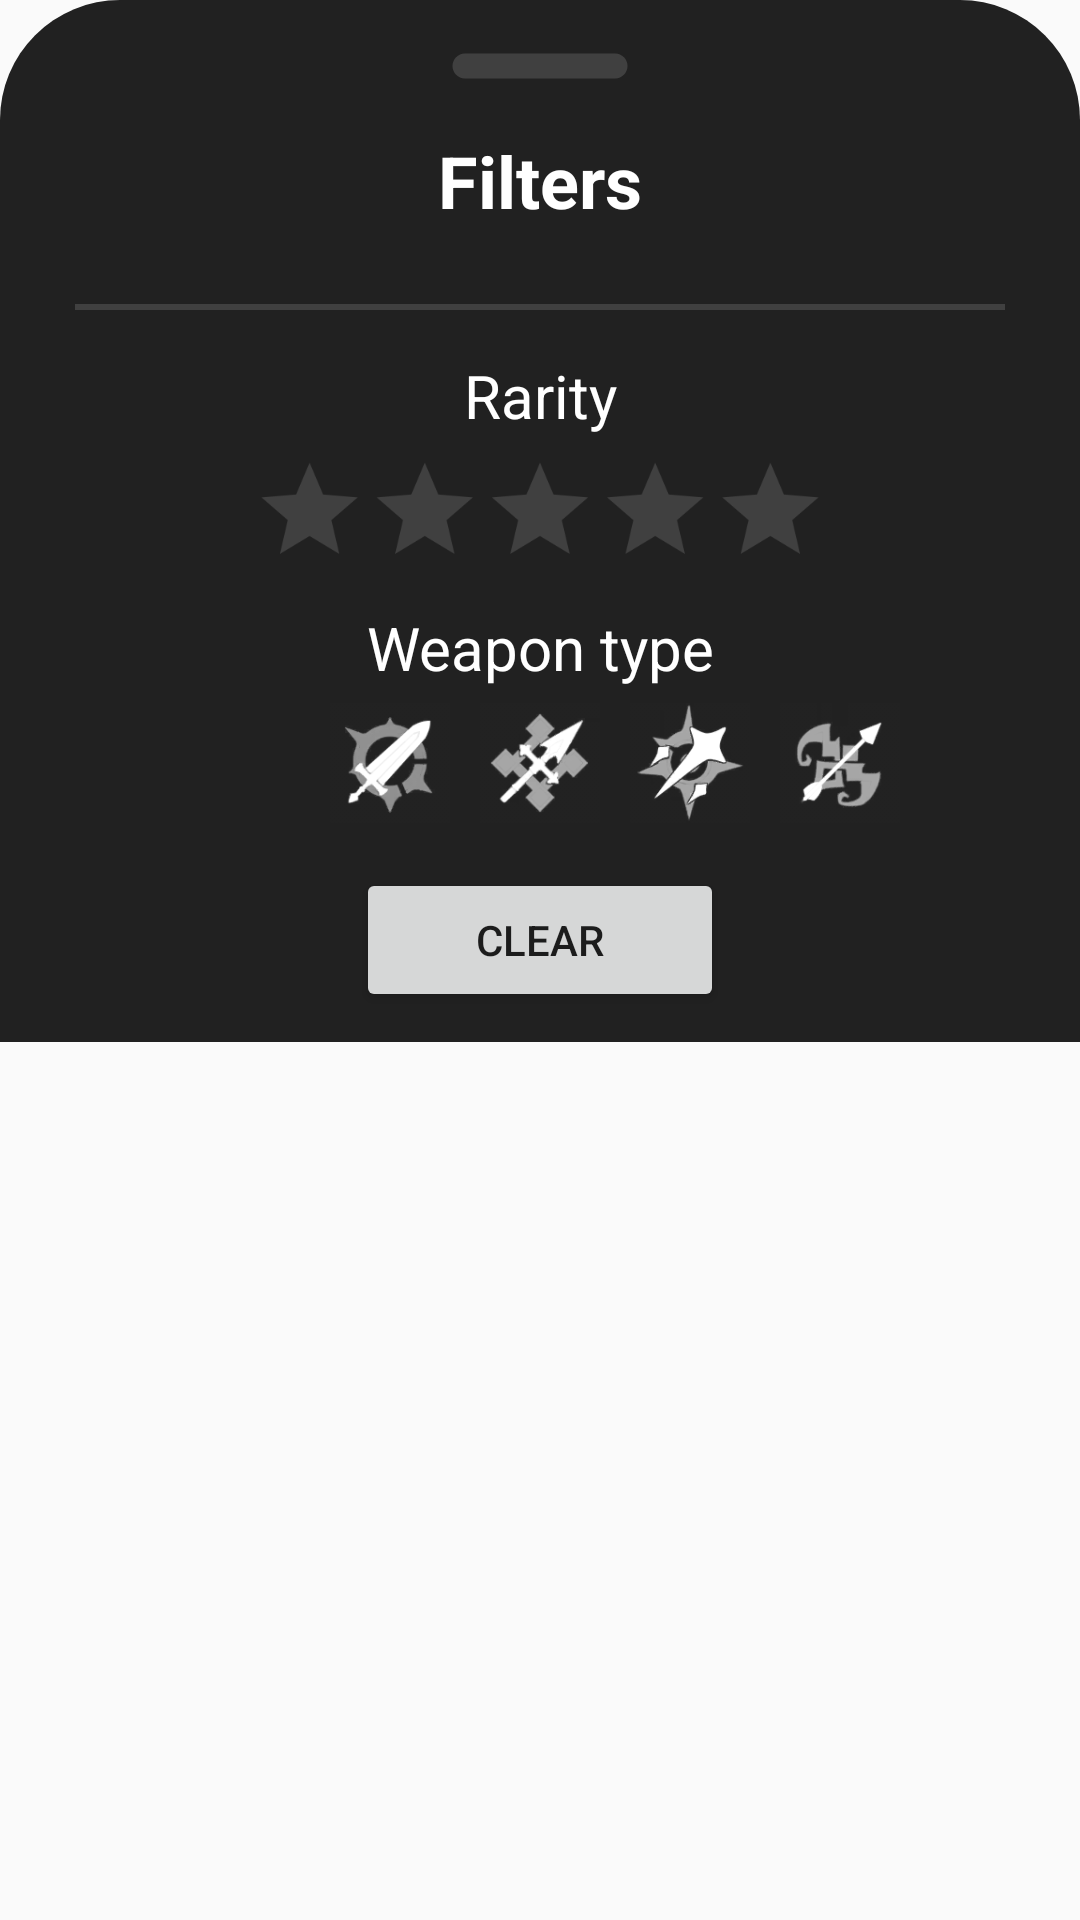

Locate icon controls on the screen. Image size 1080*1920, boxes as [x1=x1, y1=y1, x2=x2, y2=y2].
bow: [x1=797, y1=722, x2=882, y2=807]
catalyst: [x1=638, y1=705, x2=743, y2=819]
claymore: [x1=345, y1=717, x2=432, y2=813]
polearm: [x1=491, y1=714, x2=588, y2=812]
